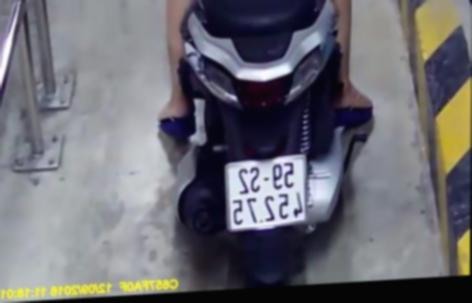License_Plate: (215, 151, 318, 241)
